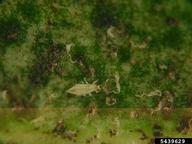Thrips: (67, 77, 107, 100)
